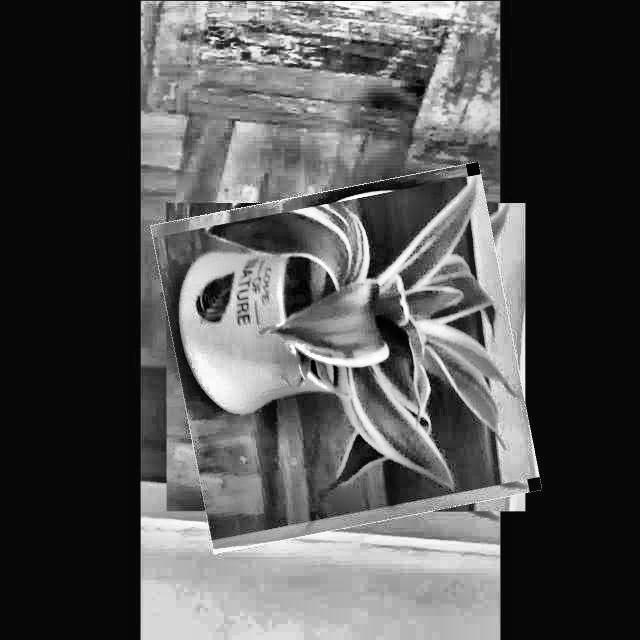plants: (164, 176, 527, 538)
